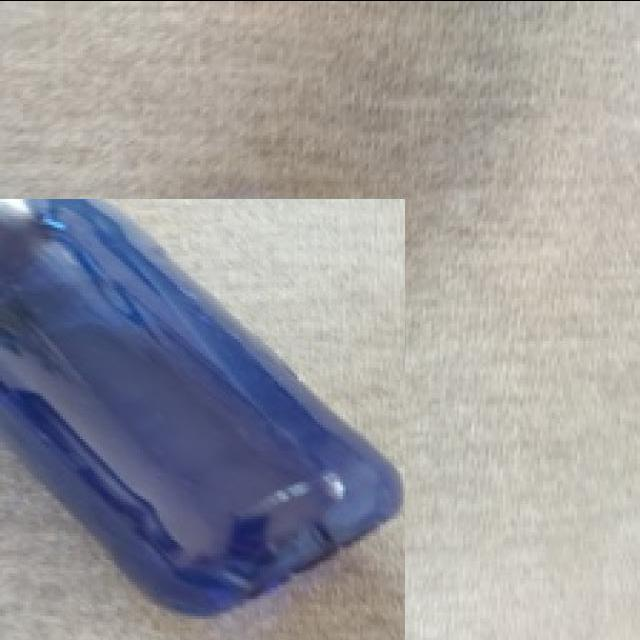good: (0, 198, 405, 640)
